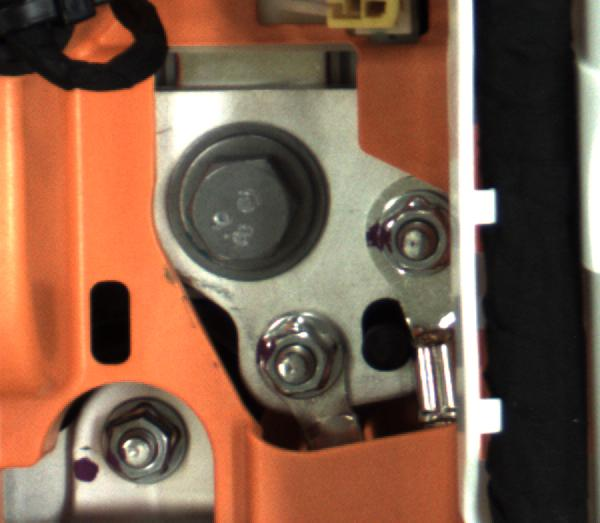nut_b: (165, 124, 334, 269)
screw_s: (253, 309, 347, 402), (103, 392, 194, 486), (374, 176, 447, 286)
